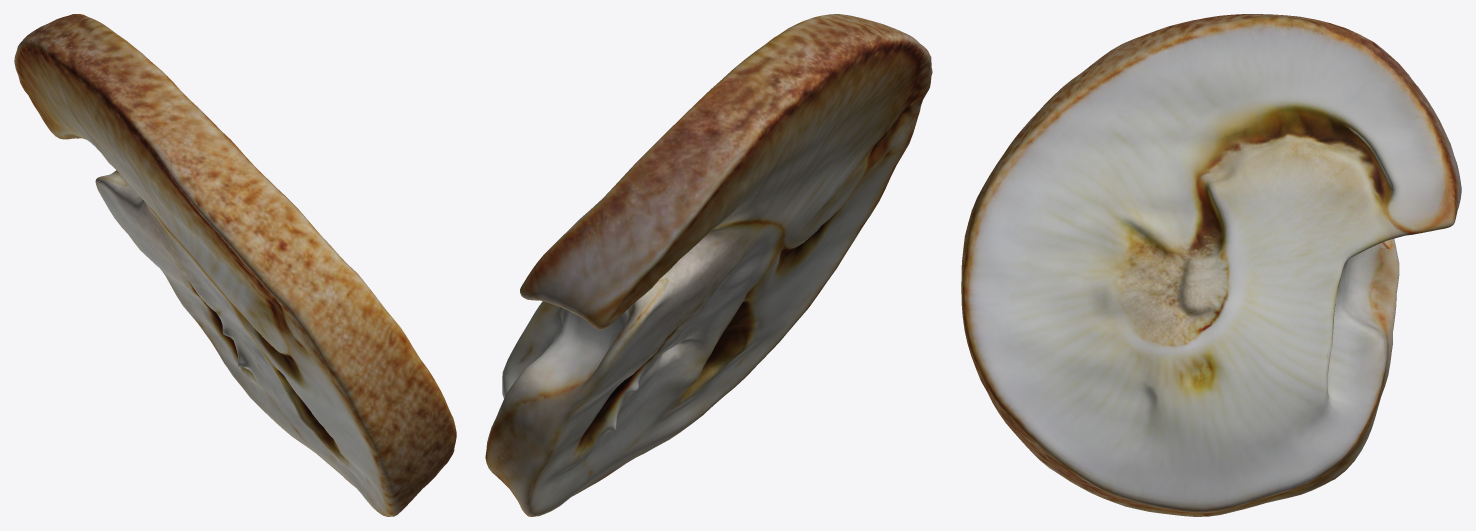
Rendered from Schampi.fbx.
3 renders of one model, left to right at view 1: azimuth 30°, elevation 25°; view 2: azimuth 150°, elevation 25°; view 3: azimuth 270°, elevation 25°, orthographic. The views are drawn at different scales.
Visible parts, largest first — view 1: mesh; view 2: mesh; view 3: mesh.
Part boxes in pixels (<box>): mesh: <box>14,14,456,516</box>; mesh: <box>485,14,932,516</box>; mesh: <box>961,14,1461,516</box>.
Size of the model in its own units: 56.47 by 90.87 by 99.95.
